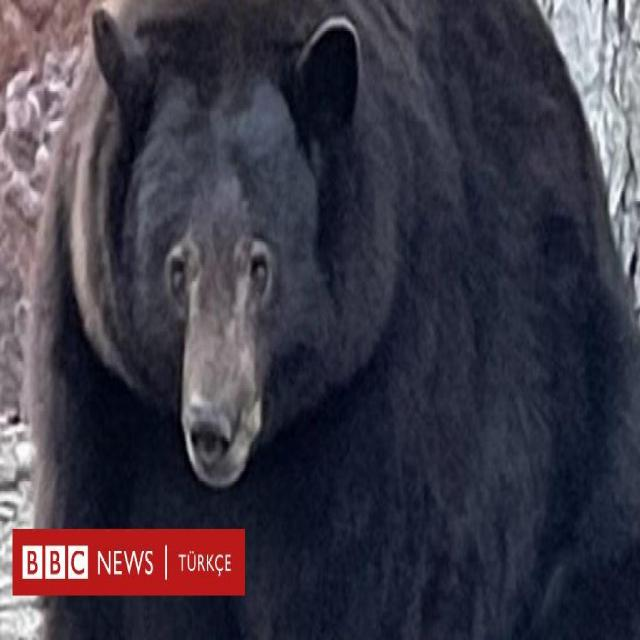Bear: (9, 0, 640, 640)
